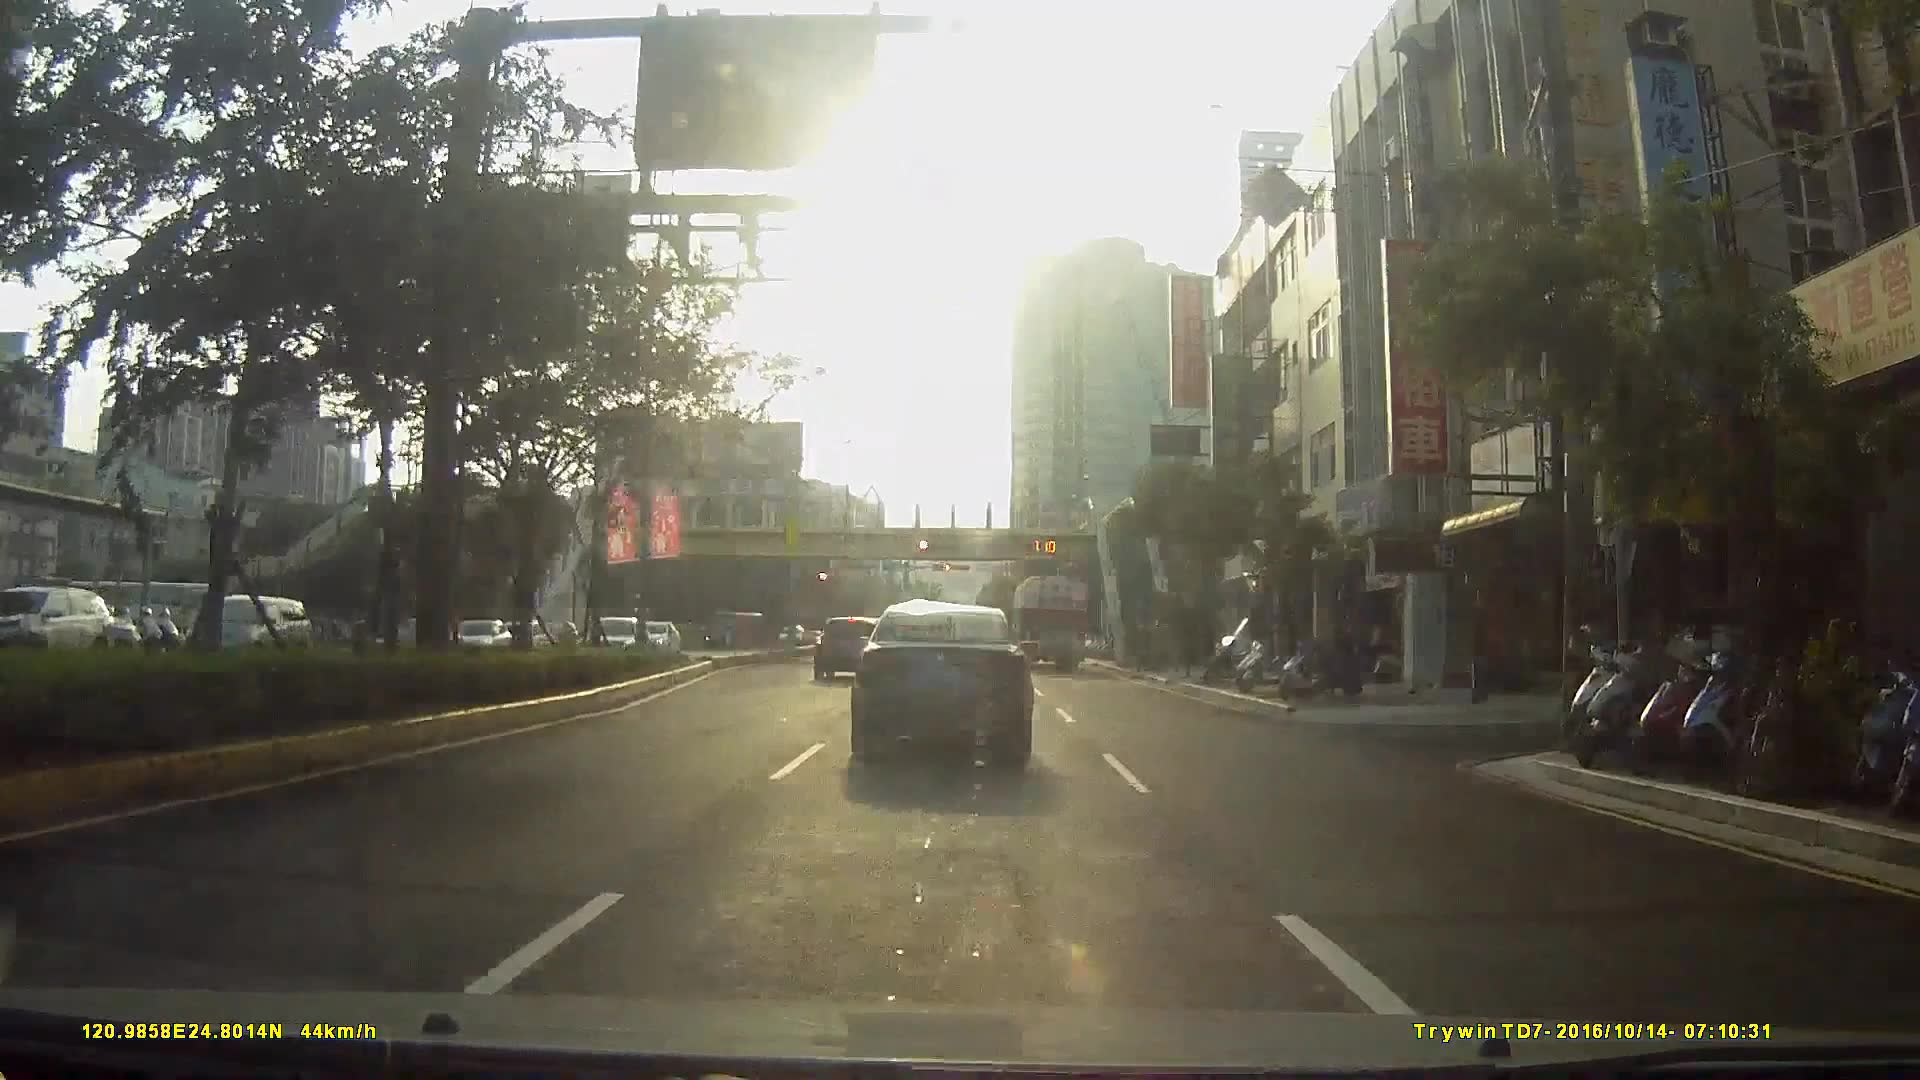vehicle: (848, 603, 1034, 764), (183, 593, 309, 665), (1007, 575, 1091, 674), (488, 564, 579, 651), (812, 615, 881, 682)
